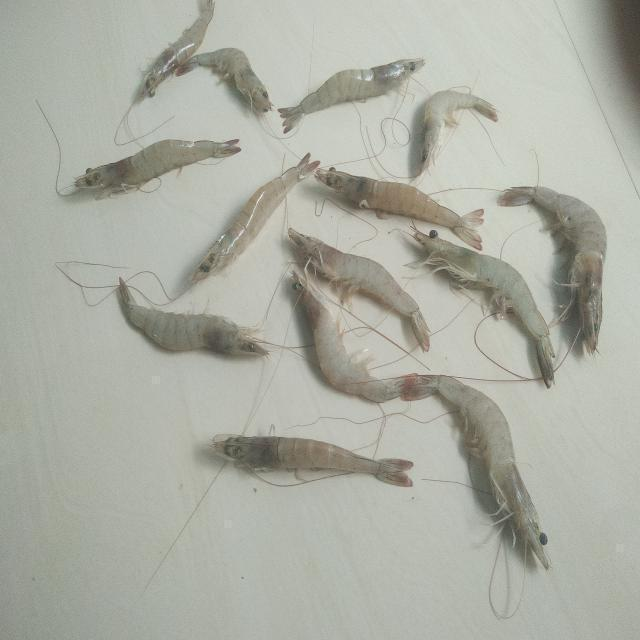shrimp: (426, 376, 550, 570), (409, 229, 556, 388), (500, 185, 608, 354), (288, 227, 430, 351), (189, 152, 320, 282), (292, 271, 418, 402), (314, 167, 484, 250), (117, 278, 268, 355), (278, 57, 425, 131), (211, 435, 414, 487), (73, 138, 240, 198), (136, 0, 214, 99), (419, 89, 498, 174), (175, 47, 271, 113)
